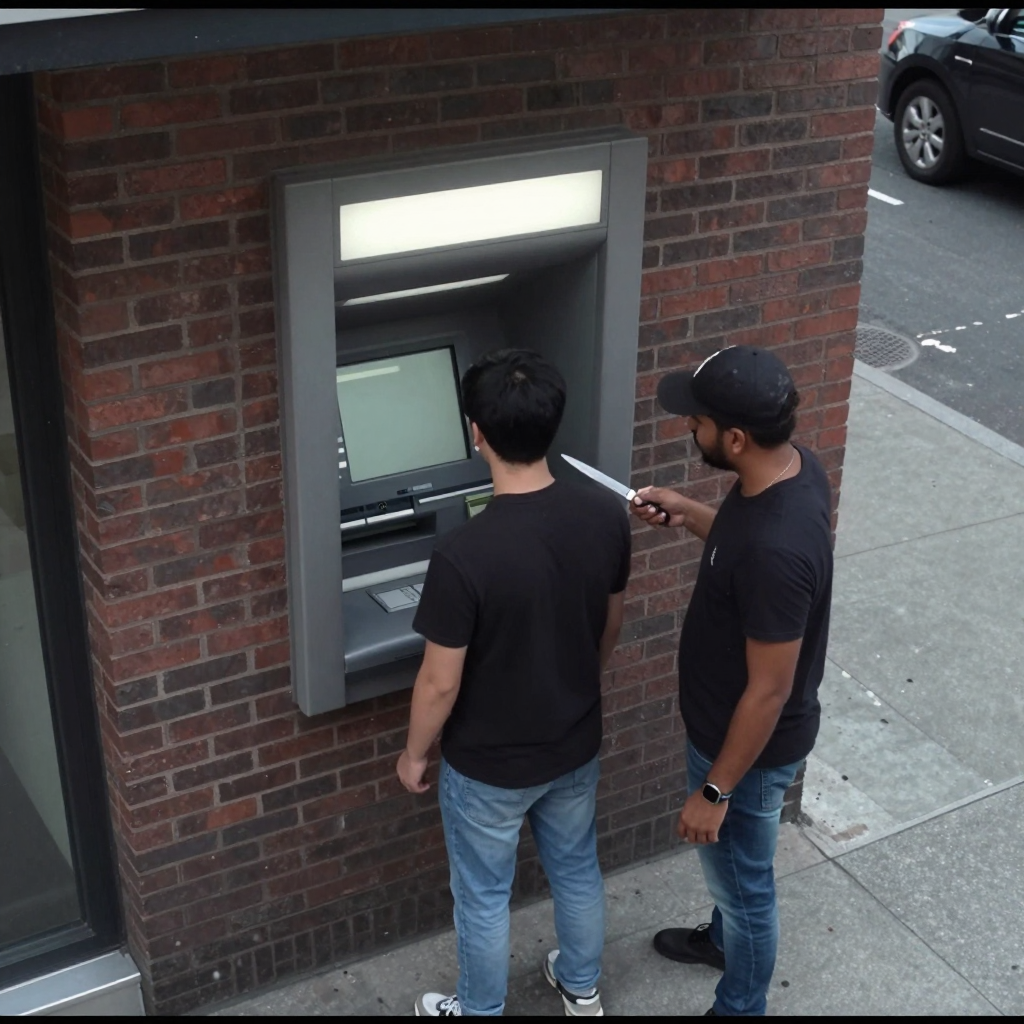Assault: (559, 453, 672, 525)
Robbery: (395, 347, 632, 1017), (629, 343, 835, 1018)
